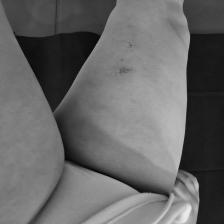DA: (85, 58, 185, 120)
